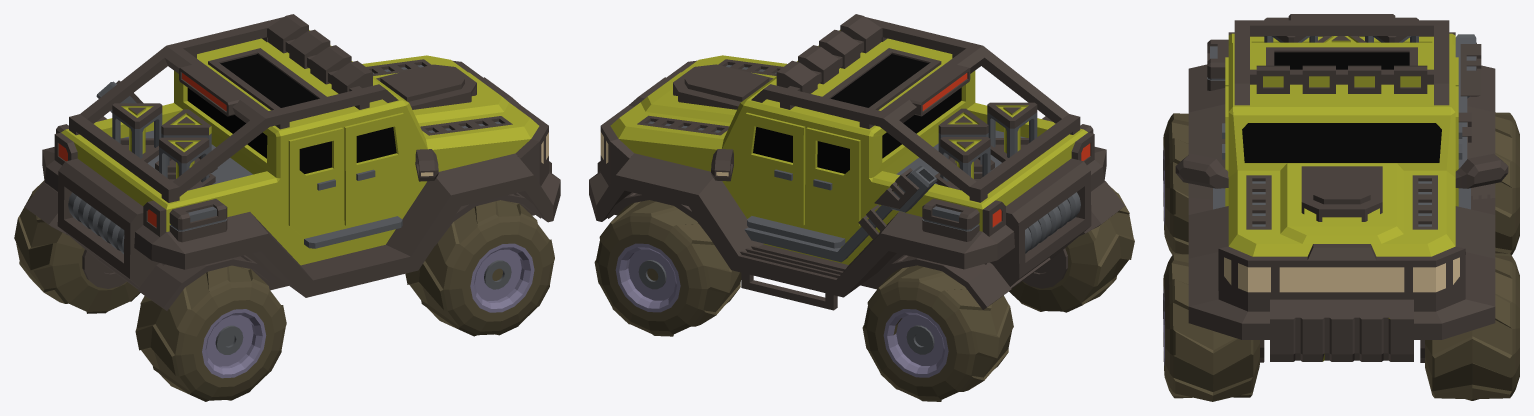
File: muzuki.glb
3 renders of one model, left to right at view 1: azimuth 30°, elevation 25°; view 2: azimuth 150°, elevation 25°; view 3: azimuth 270°, elevation 25°, orthographic. The views are drawn at different scales.
Parts seen in each view (by area): view 1: chasis, wheel.BR, wheel.FR, wheel.BL; view 2: chasis, wheel.BL, wheel.FL, wheel.BR; view 3: chasis, wheel.FR, wheel.FL, wheel.BR, wheel.BL.
Part boxes in pixels (x1,y1,x2,y2): chasis: (24, 14, 560, 310); wheel.BR: (135, 265, 286, 401); wheel.FR: (405, 200, 554, 336); wheel.BL: (14, 180, 140, 313); chasis: (589, 14, 1124, 310); wheel.BL: (862, 265, 1013, 401); wheel.FL: (594, 200, 741, 336); wheel.BR: (1009, 186, 1134, 312); chasis: (1175, 14, 1508, 362); wheel.FR: (1163, 254, 1259, 401); wheel.FL: (1425, 253, 1519, 400); wheel.BR: (1163, 113, 1188, 254); wheel.BL: (1495, 112, 1519, 255).
Bounding box in the file's own units: 3.02 × 1.75 × 2.02.
2 materials, 2 textured.
